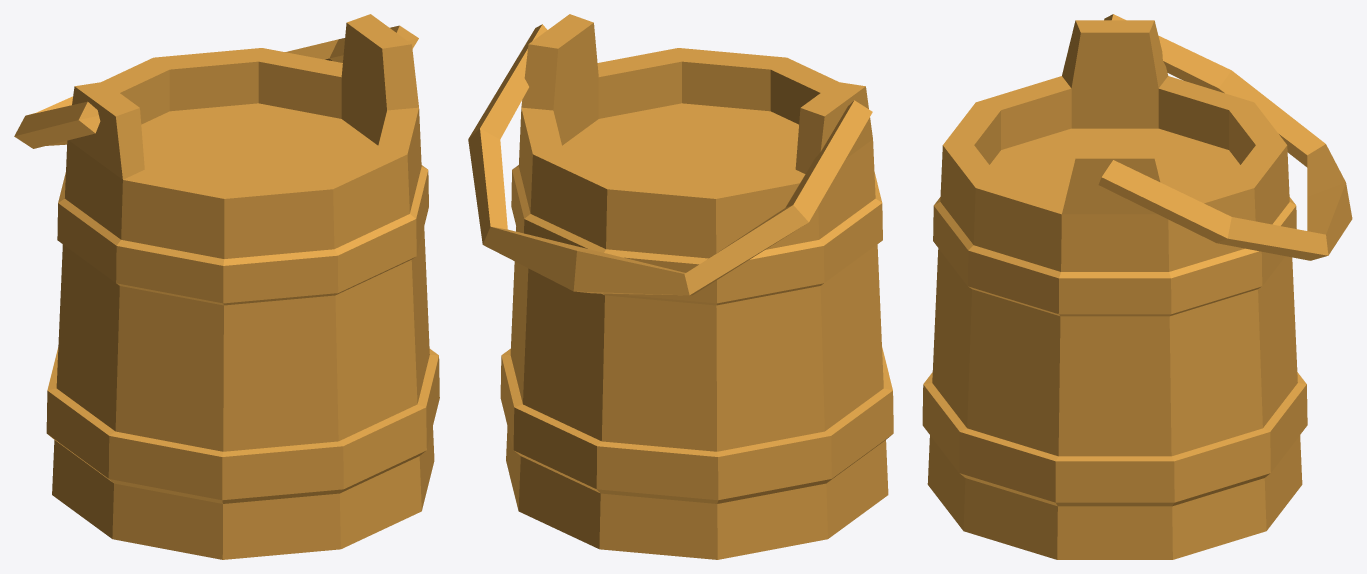
Rendered from bucket-milk.fbx.
The picture shows the model from 3 angles, left to right: view 1: azimuth 30°, elevation 25°; view 2: azimuth 150°, elevation 25°; view 3: azimuth 270°, elevation 25°; orthographic projection. The views are drawn at different scales.
Visible parts, largest first — view 1: bucket-milk; view 2: bucket-milk; view 3: bucket-milk.
Part boxes in pixels (x1=…): bucket-milk: x1=14, y1=14, x2=439, y2=559; bucket-milk: x1=468, y1=14, x2=893, y2=559; bucket-milk: x1=922, y1=14, x2=1352, y2=559.
Size of the model in its own units: 0.332 by 0.3865 by 0.3788.
